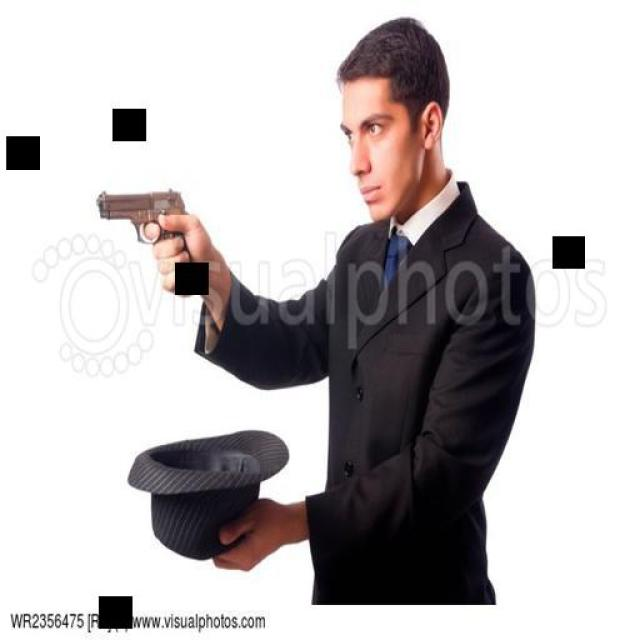gun: (93, 182, 195, 288)
